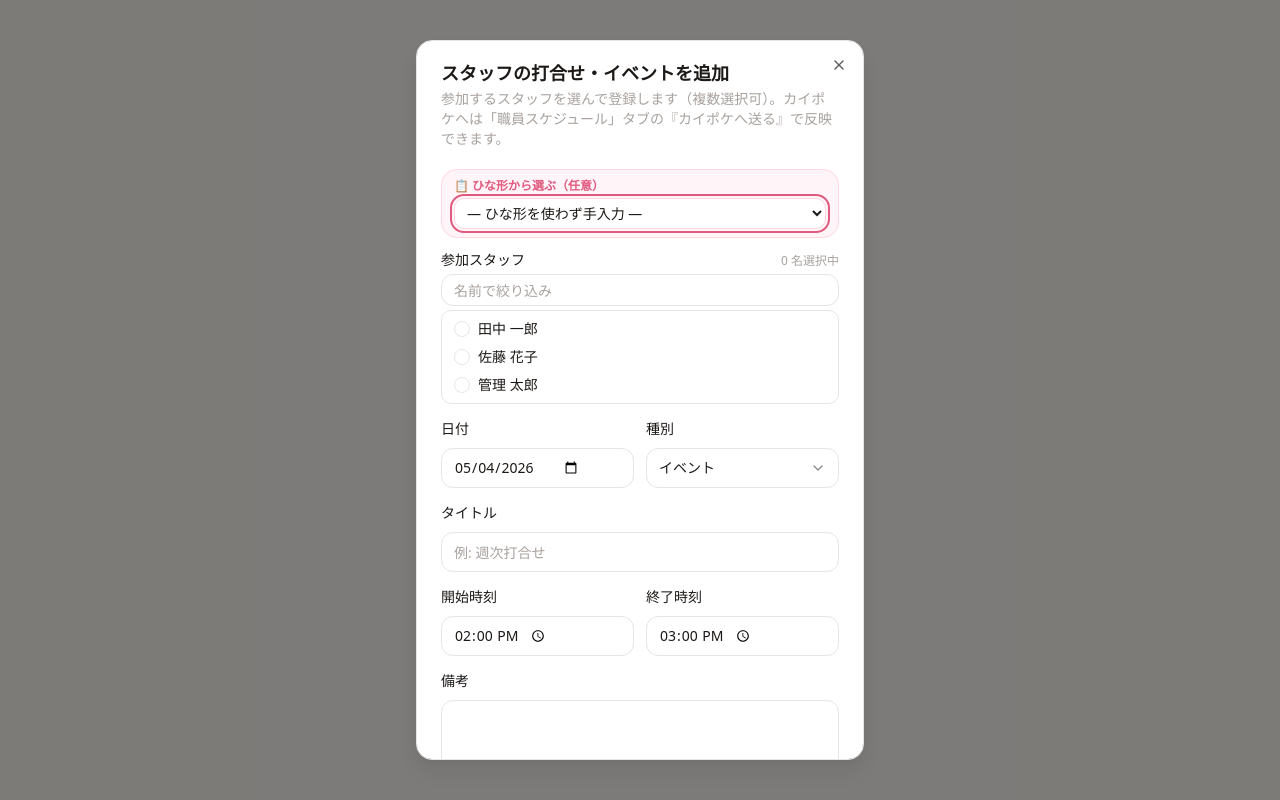
Scenario: TimelineEventAddDialog (D-1) › 3. 0 名選択で送信するとエラーを出し作成を呼ばない
In the field labelled "タイトル": (640,552) [441,532,839,572], type "週次打合せ"
(page scrolled)
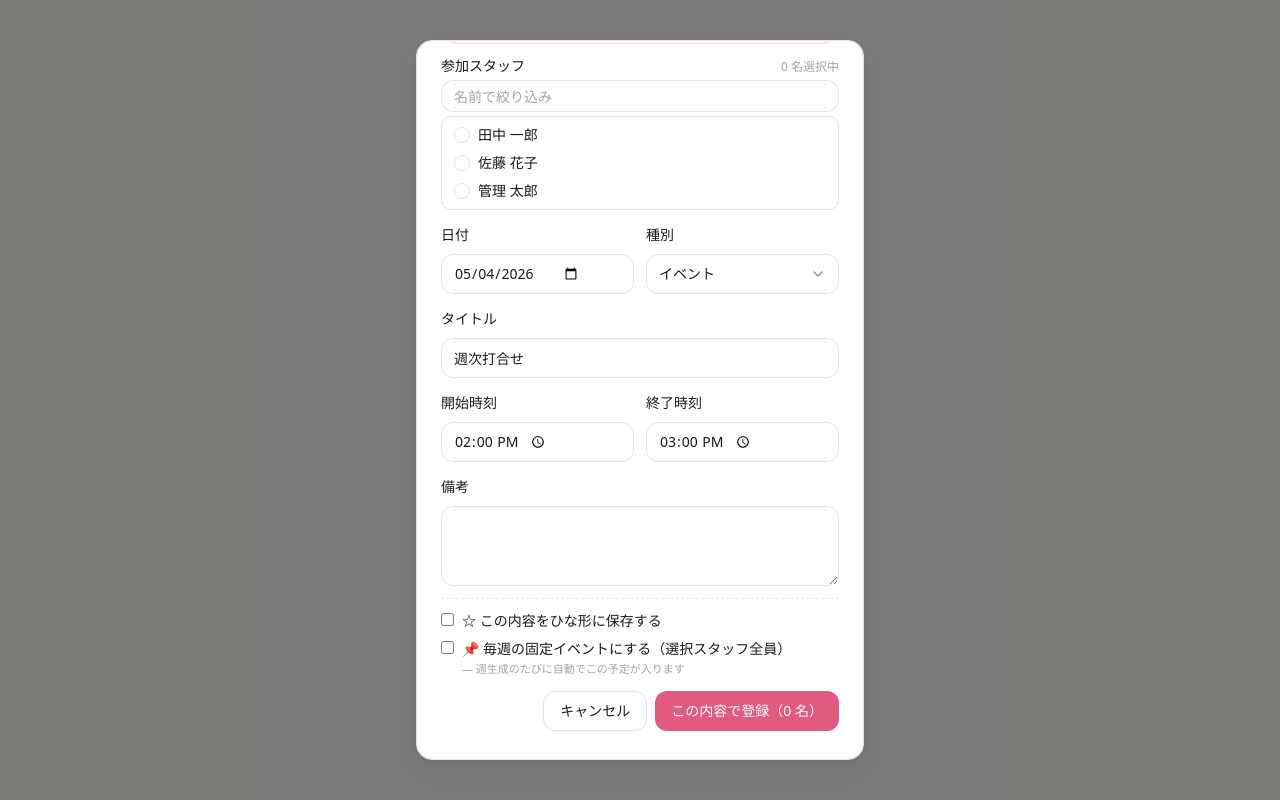
Click the button with test id "tl-event-submit": (747,711) [655,691,839,731]
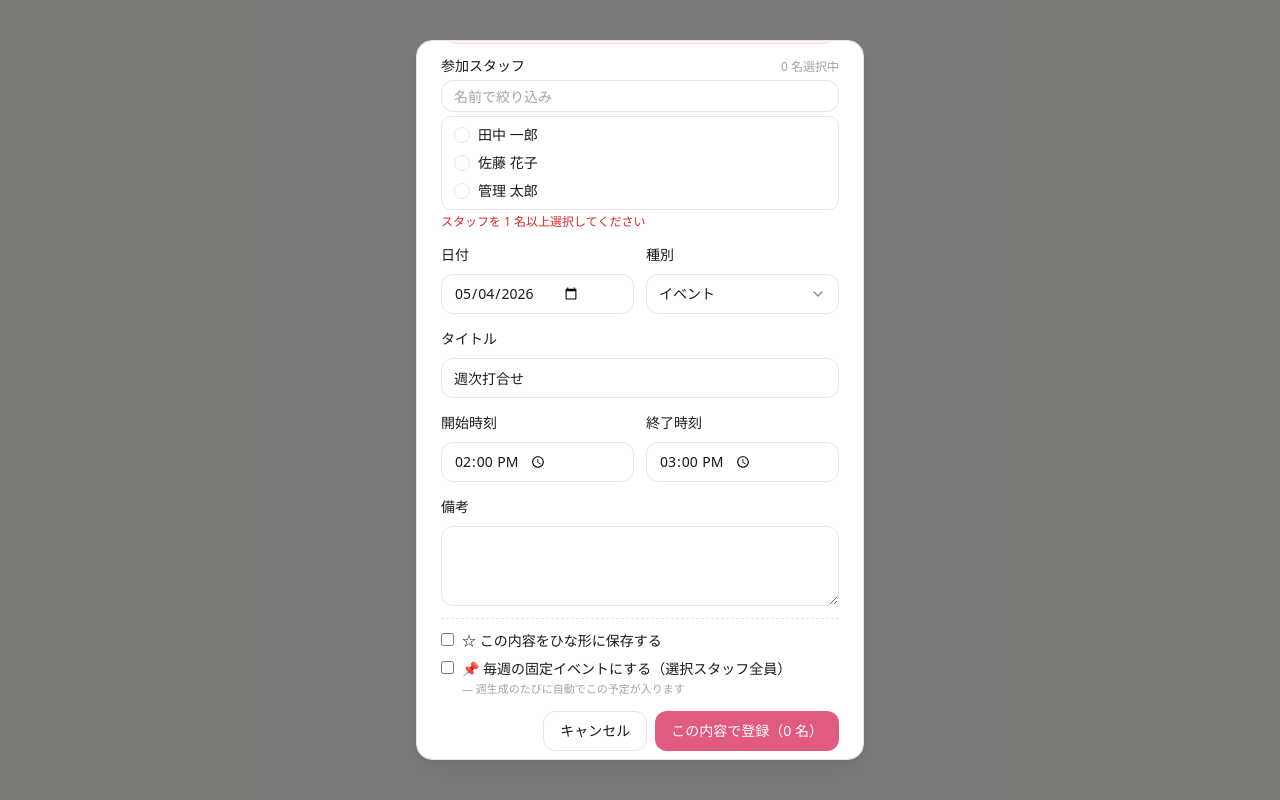
Now the text with test id "tl-event-staff-error" reads "スタッフを 1 名以上選択してください", box [441,213,645,230]
